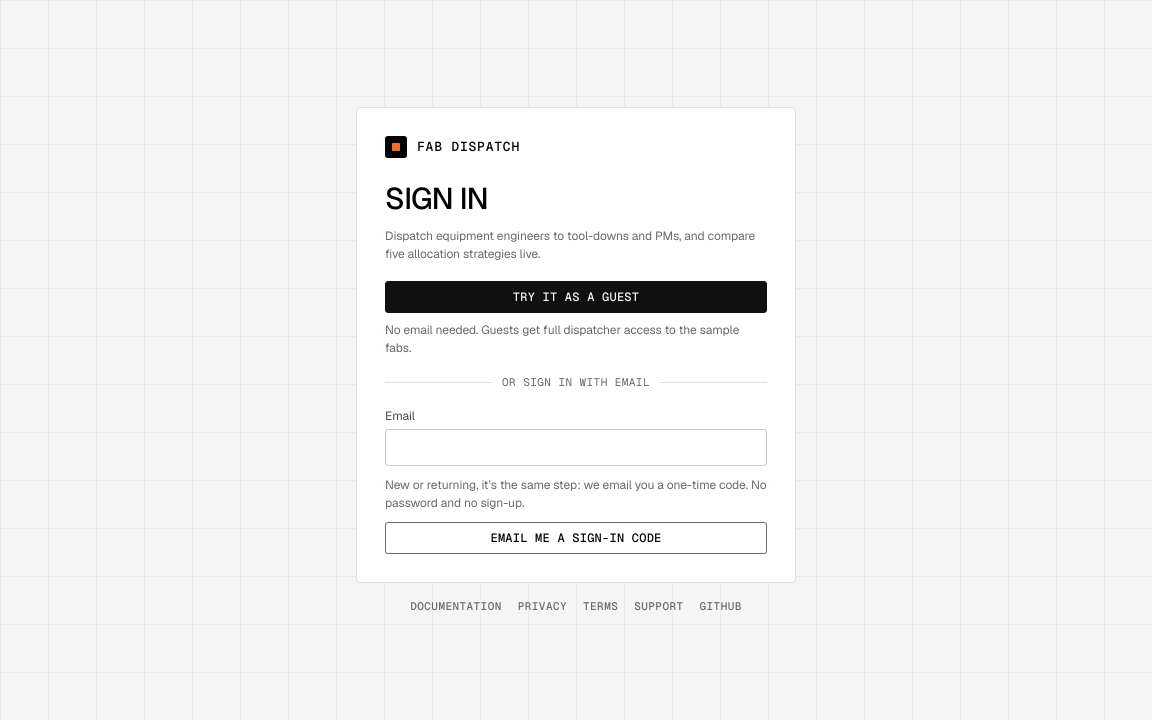
Scenario: Supabase sign-in › emails a code (and link) and accepts the code, whatever its length
Step 1. Type "recruiter@company.com" into the field labelled "Email" → (576, 448), box [385,429,767,466]
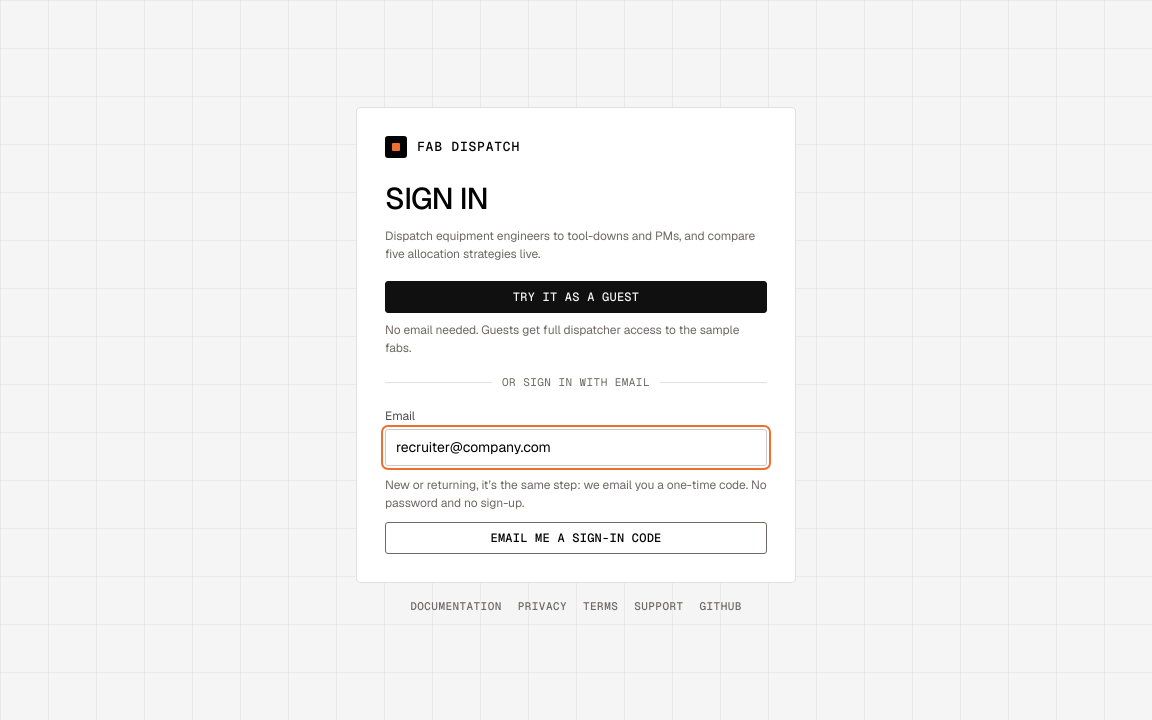
Step 2. Click the button "Email me a sign-in code" → (576, 538), box [385,522,767,554]
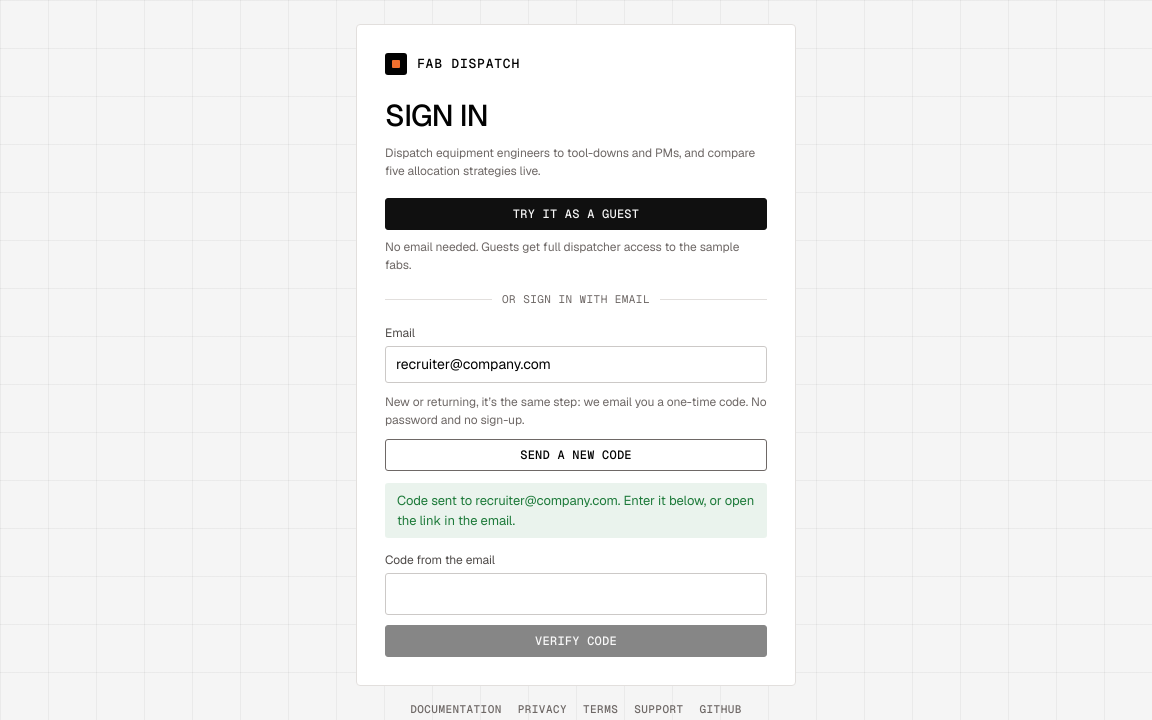
Expected: the message shows "Code sent to recruiter@company.com", [397,492,754,528]
Expected: the button "Send a new code" is shown, [385,439,767,471]
Expected: the button "Verify code" is disabled, [385,625,767,657]
Step 3. Type "48a2-91" into the field labelled "Code from the email" → (576, 594), box [385,573,767,615]
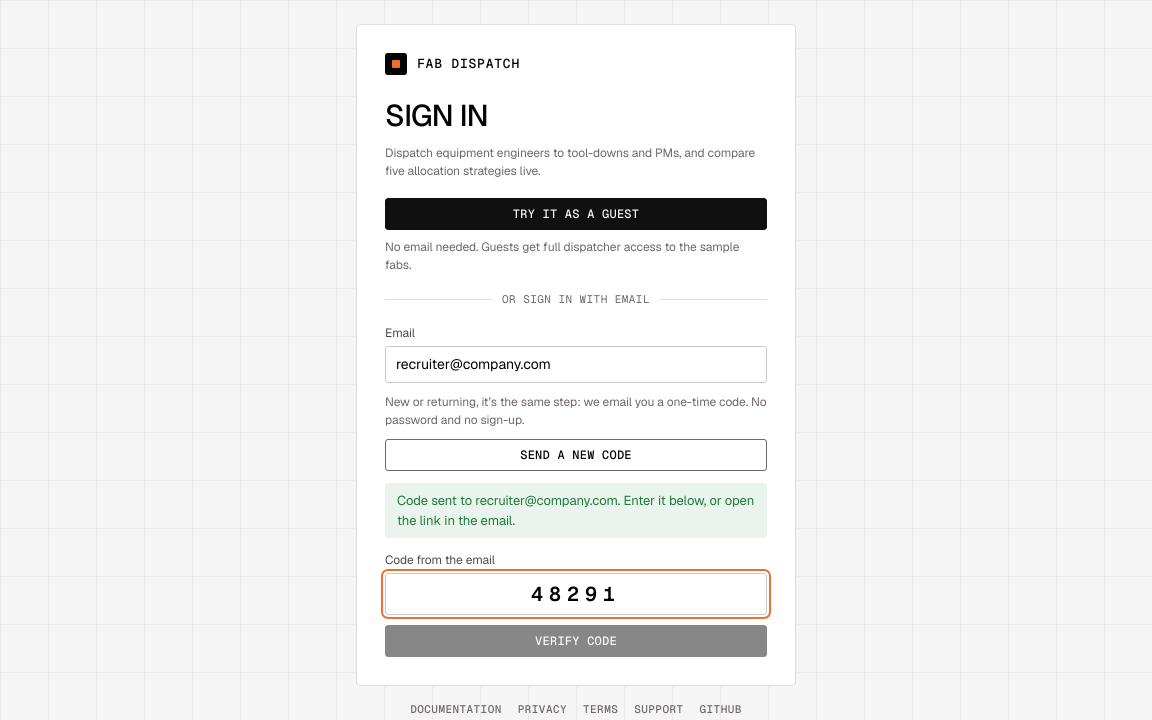
Expected: the button "Verify code" is disabled, [385,625,767,657]
Expected: the field labelled "Code from the email" holds "48291"
Step 4. Type "3671" into the field labelled "Code from the email" → (576, 594), box [385,573,767,615]
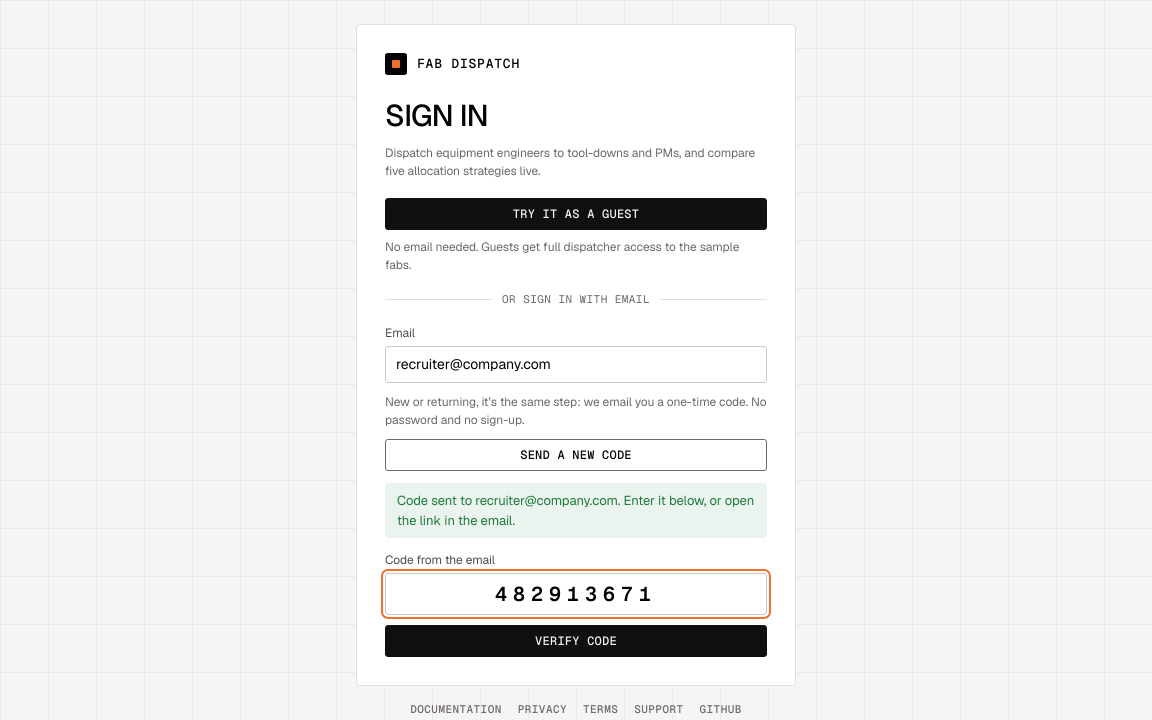
Expected: the field labelled "Code from the email" holds "482913671", [385,573,767,615]
Step 5. Click the button "Verify code" → (576, 641), box [385,625,767,657]
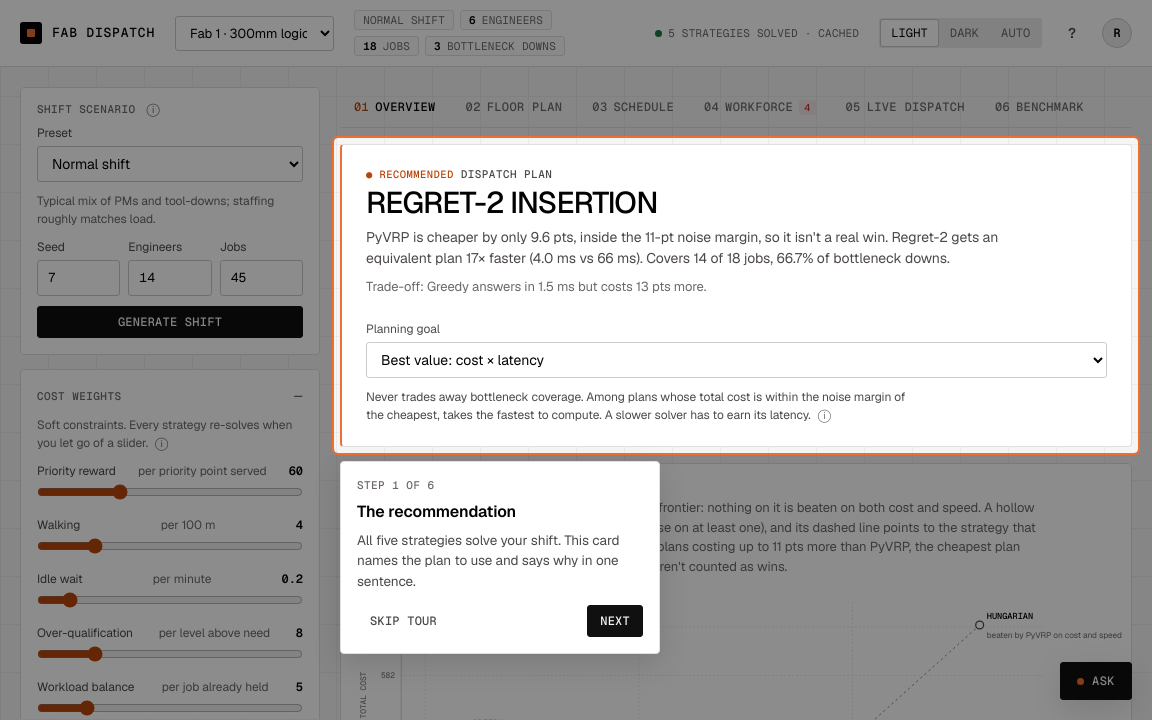
Expected: the element named "Recommendation" is shown, [340,144,1132,447]
